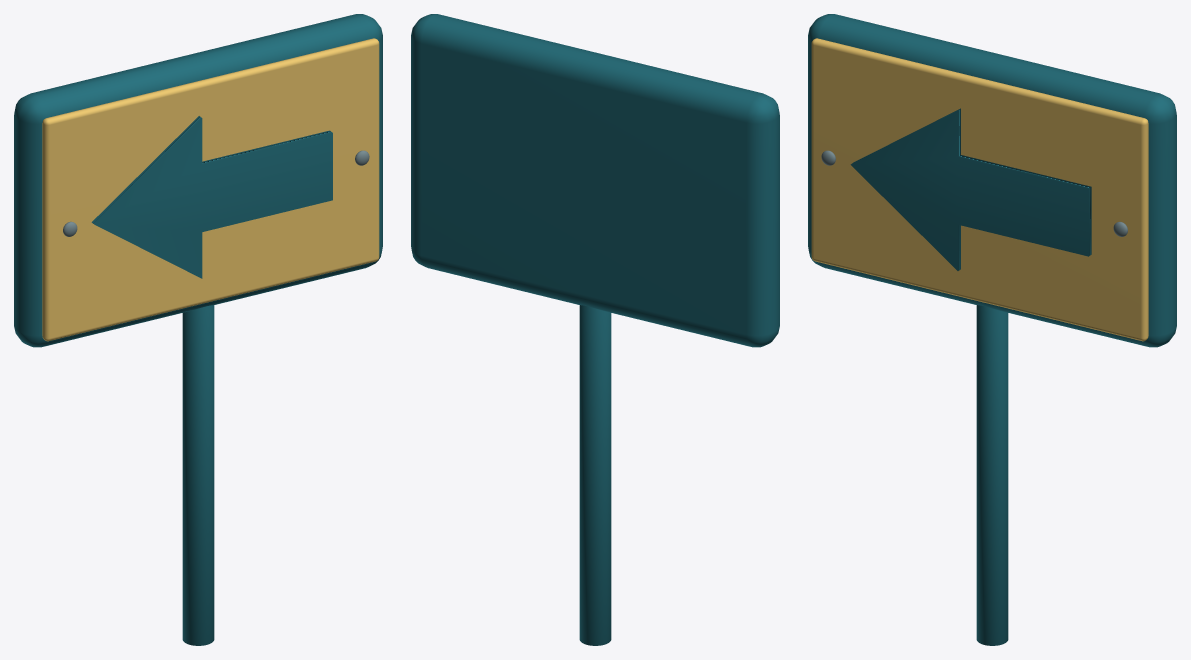
Rendered from race_curve_left.glb.
3 renders of one model, left to right at view 1: azimuth 30°, elevation 25°; view 2: azimuth 150°, elevation 25°; view 3: azimuth 330°, elevation 25°, orthographic.
Visible parts, largest first — view 1: race_curve_left; view 2: race_curve_left; view 3: race_curve_left.
Part boxes in pixels (bbox=[...]): race_curve_left: bbox=[14, 14, 382, 645]; race_curve_left: bbox=[411, 14, 779, 645]; race_curve_left: bbox=[808, 14, 1176, 645].
Bounding box in the file's own units: 2.35 × 3.62 × 0.355.
